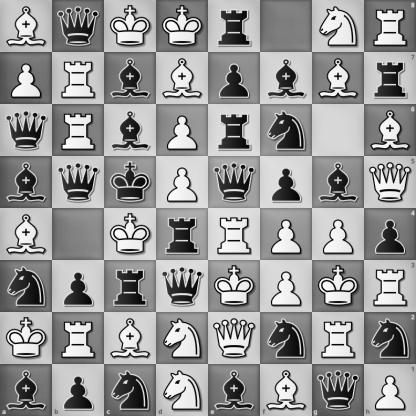B: (260, 364, 312, 416), (364, 104, 416, 156), (1, 1, 52, 52), (1, 209, 52, 260), (105, 313, 156, 364), (157, 53, 208, 104), (313, 53, 364, 104)
K: (1, 313, 52, 364), (105, 1, 156, 52), (105, 209, 156, 260), (157, 1, 208, 52), (209, 261, 260, 312), (313, 261, 364, 312)
N: (156, 364, 209, 416), (157, 313, 208, 364), (313, 1, 364, 52)
P: (364, 364, 416, 416), (1, 53, 52, 104), (157, 105, 208, 156), (157, 157, 208, 208), (261, 209, 312, 260), (261, 261, 312, 312), (313, 209, 364, 260)
Q: (364, 156, 416, 209), (209, 313, 260, 364)
R: (364, 0, 416, 52), (364, 260, 416, 312), (53, 53, 104, 104), (53, 105, 104, 156), (53, 313, 104, 364), (209, 209, 260, 260), (313, 313, 364, 364)
b: (0, 364, 52, 416), (209, 364, 260, 416), (1, 157, 52, 208), (105, 53, 156, 104), (105, 105, 156, 156), (261, 53, 312, 104), (313, 157, 364, 208)
board: (0, 0, 415, 415)
k: (105, 157, 156, 208)
n: (104, 364, 156, 416), (364, 312, 416, 364), (1, 261, 52, 312), (261, 105, 312, 156), (261, 313, 312, 364)
p: (52, 364, 104, 416), (364, 209, 416, 260), (53, 261, 104, 312), (209, 53, 260, 104), (261, 157, 312, 208)
q: (312, 364, 364, 416), (1, 105, 52, 156), (53, 1, 104, 52), (53, 157, 104, 208), (157, 261, 208, 312), (209, 157, 260, 208)
r: (364, 52, 416, 104), (105, 261, 156, 312), (157, 209, 208, 260), (209, 1, 260, 52), (209, 105, 260, 156)
